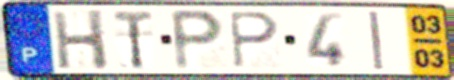4: (303, 11, 350, 70)
H: (50, 8, 112, 72)
I: (366, 9, 386, 72)
P: (168, 7, 227, 73), (226, 10, 282, 71)
T: (110, 9, 155, 71)
